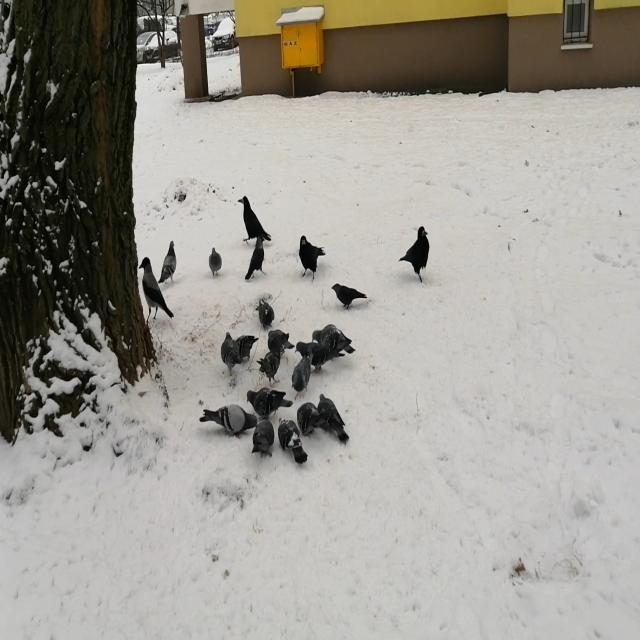bird: (138, 257, 174, 326), (399, 225, 430, 283), (201, 404, 257, 435), (312, 322, 354, 358), (319, 395, 348, 444), (278, 416, 308, 463), (296, 341, 344, 369), (298, 235, 326, 282), (247, 389, 292, 416), (296, 404, 327, 436), (331, 282, 367, 309), (246, 235, 266, 279), (220, 332, 240, 374), (259, 351, 282, 383), (253, 420, 274, 455), (159, 240, 175, 284), (292, 356, 311, 390), (257, 298, 274, 329), (210, 248, 222, 277)
